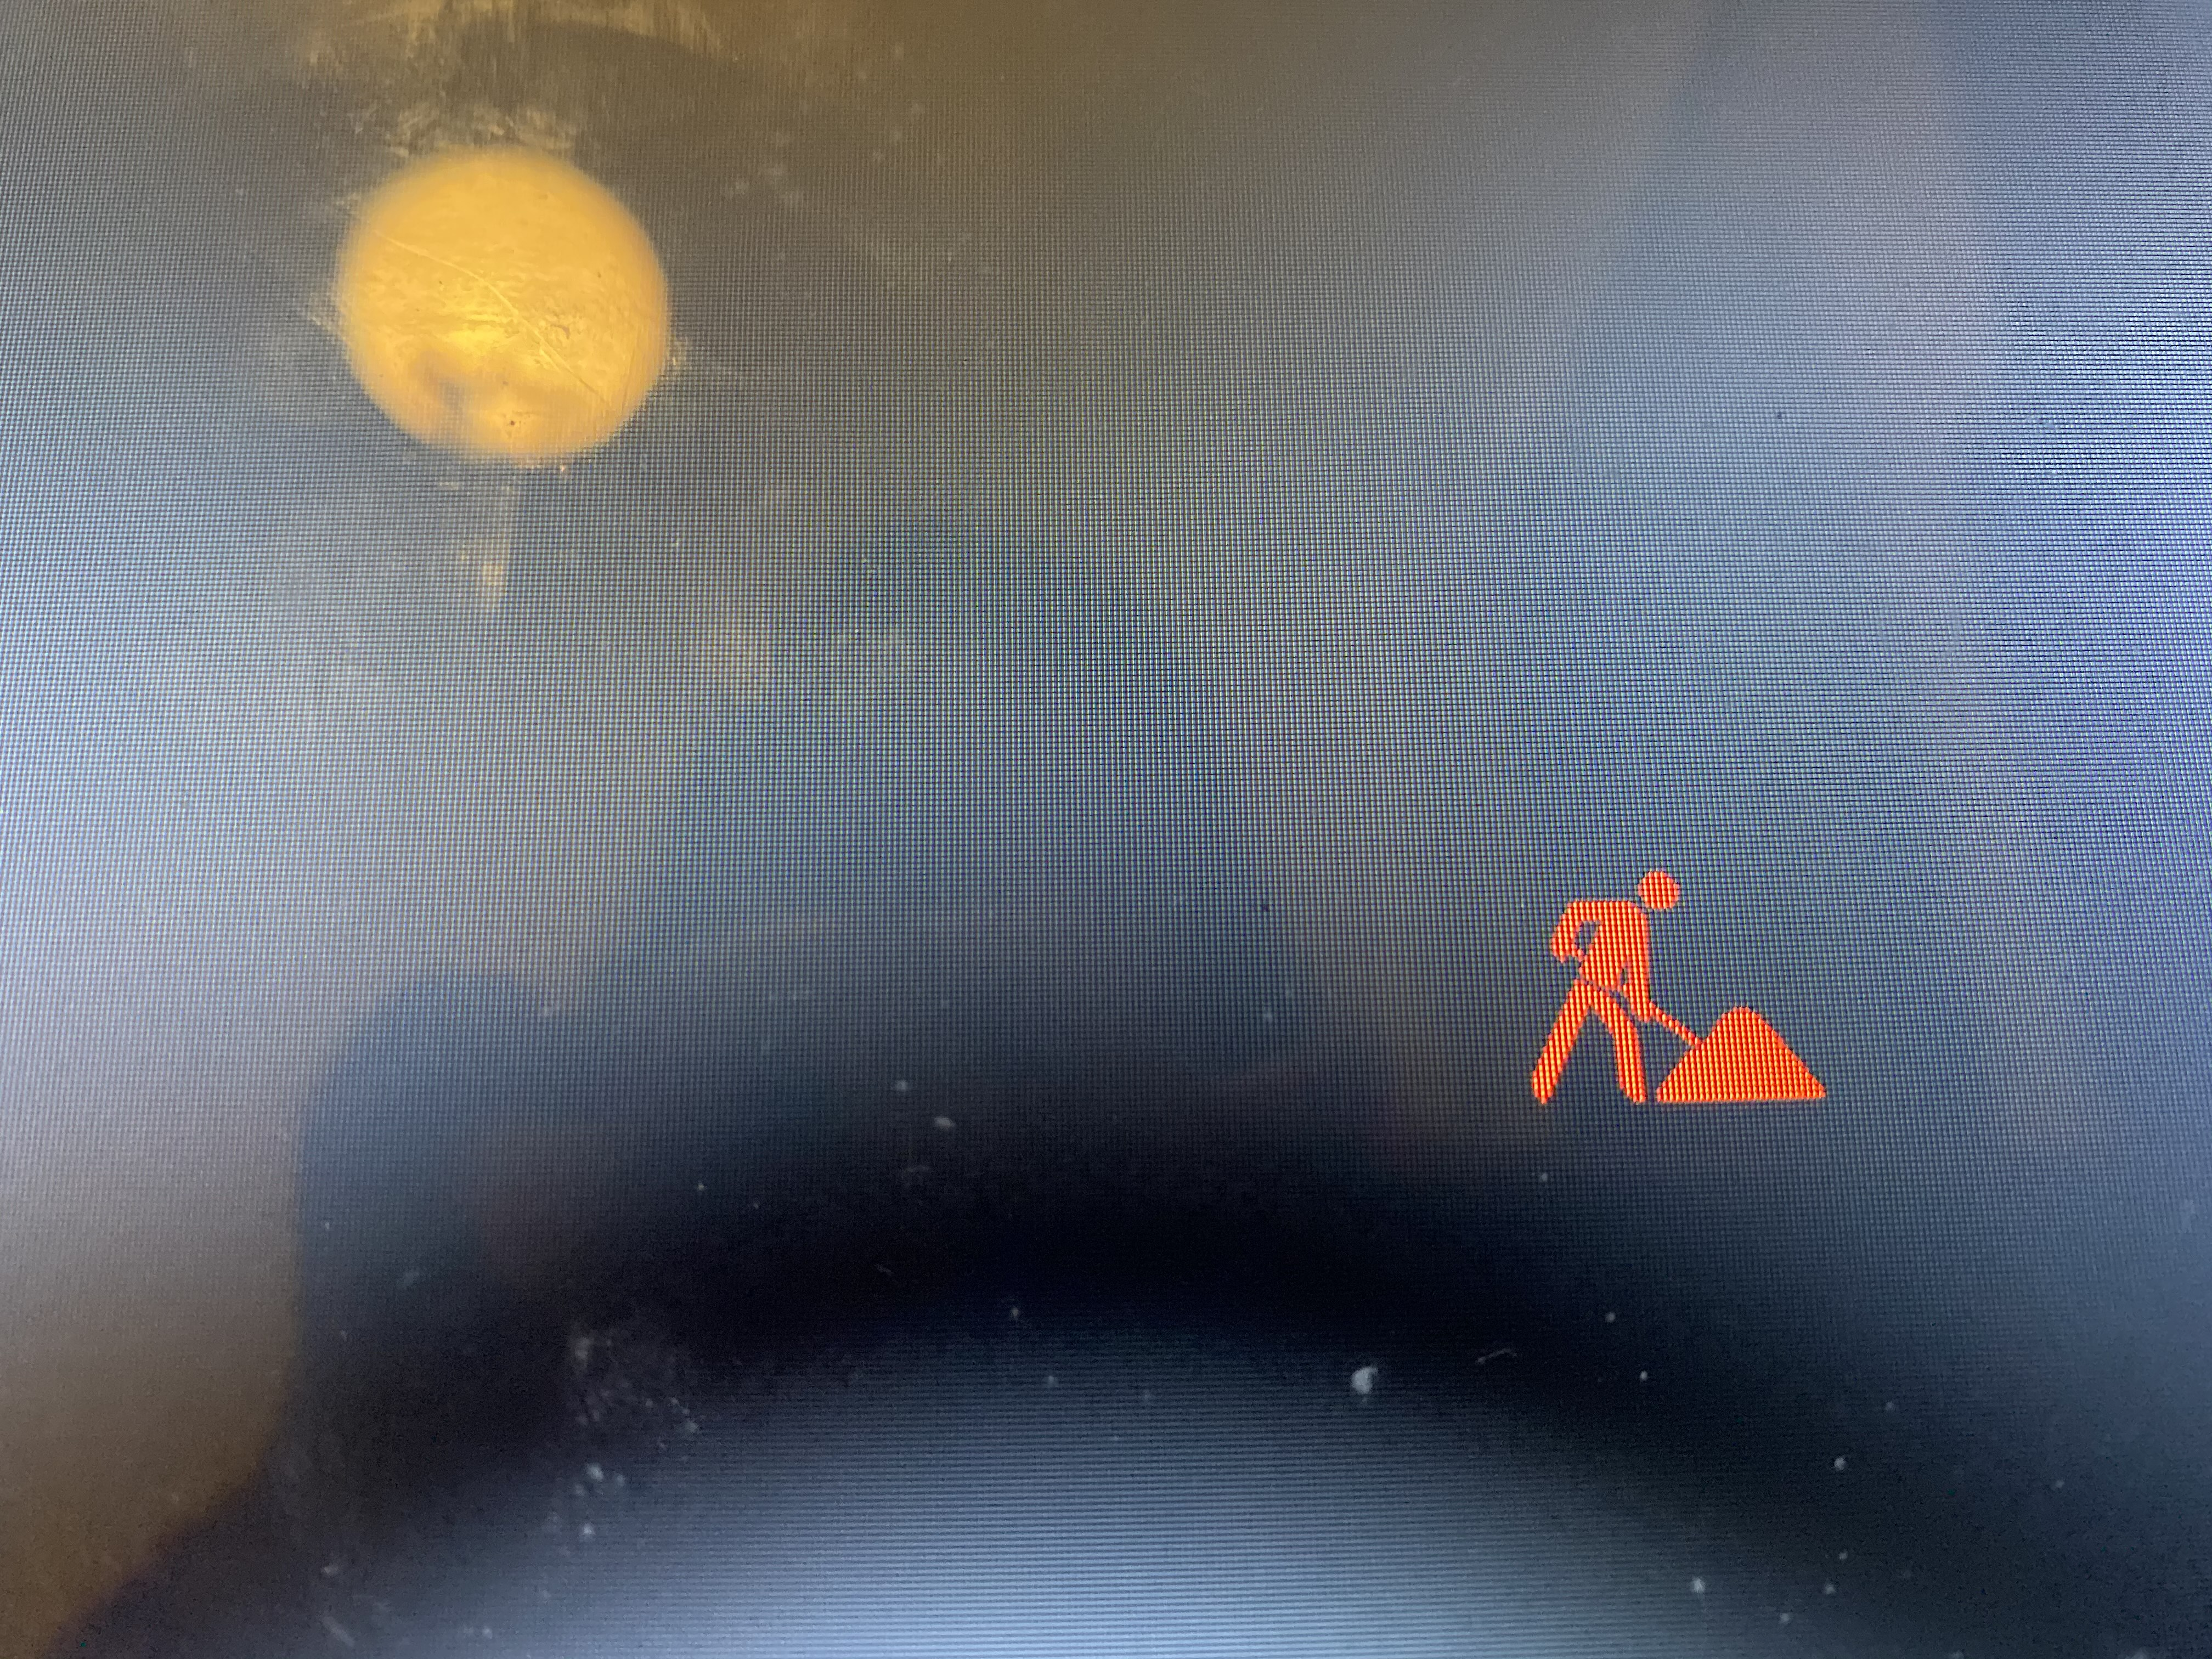CONSTRUCTION: (1500, 831, 1858, 1161)
